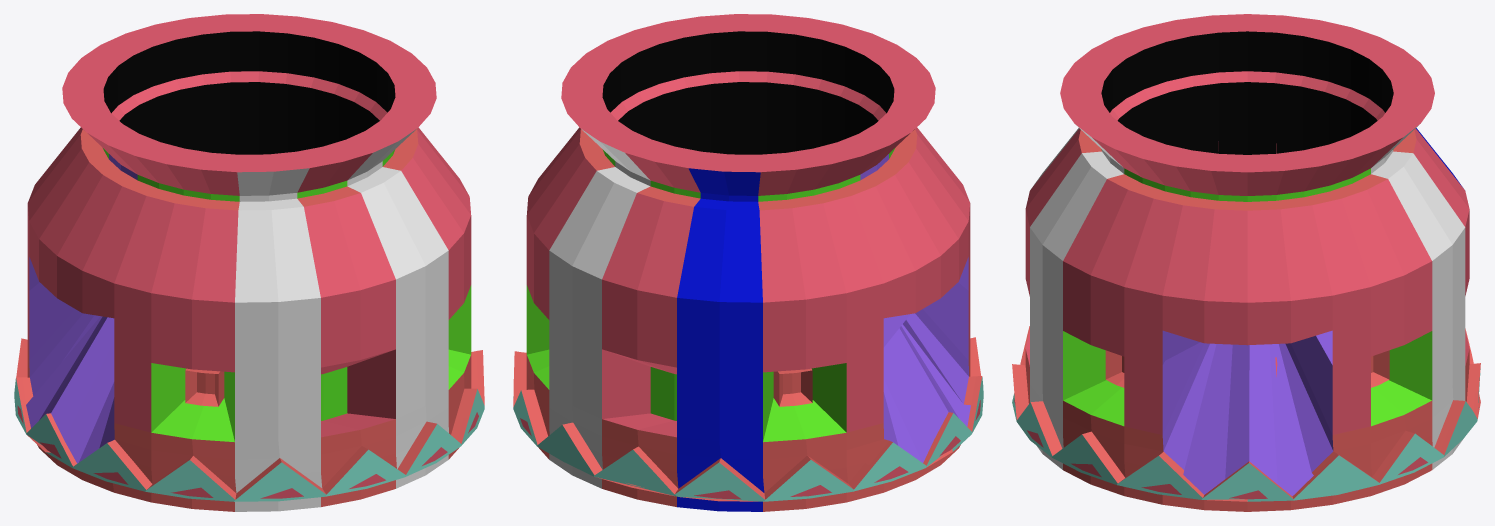
File: towerBaseDn.fbx
The picture shows the model from 3 angles, left to right: view 1: azimuth 30°, elevation 25°; view 2: azimuth 150°, elevation 25°; view 3: azimuth 270°, elevation 25°; orthographic projection.
Visible parts, largest first — view 1: Cylinder.001; view 2: Cylinder.001; view 3: Cylinder.001.
Boxes of the visible parts, x1=… form: Cylinder.001: x1=14, y1=14, x2=484, y2=511; Cylinder.001: x1=513, y1=14, x2=983, y2=511; Cylinder.001: x1=1012, y1=14, x2=1480, y2=511.
Bounding box in the file's own units: 212 × 162 × 211.
